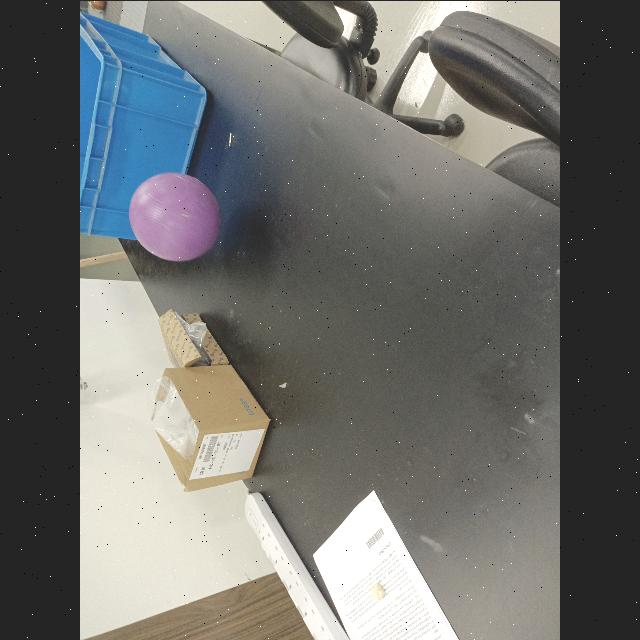P: (128, 172, 218, 258)
